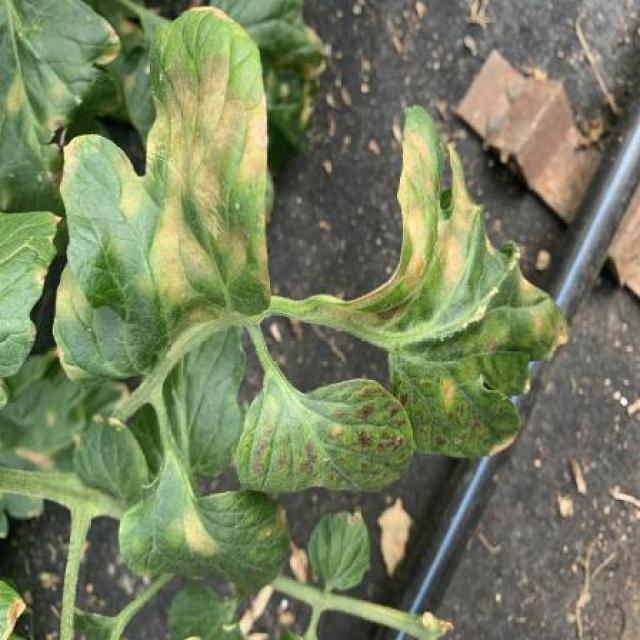Leaf Mold: (54, 6, 270, 391), (388, 103, 568, 458), (117, 466, 290, 594)
